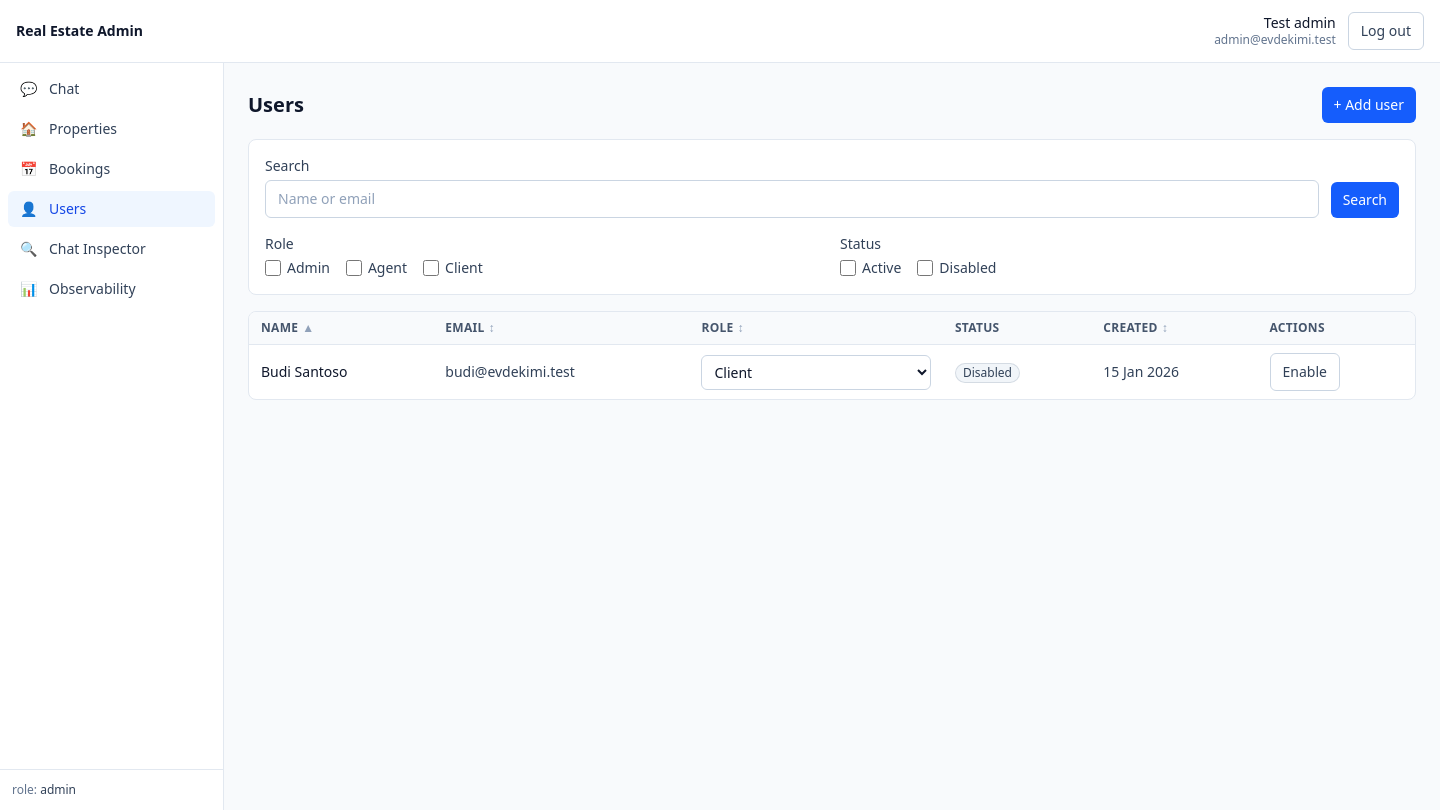
Scenario: enable/disable confirm-before-write › sends nothing when an enable is dismissed
The image size is (1440, 810).
Expected: the text "Budi Santoso" is shown, 249,344 -> 433,399
Click the button "Enable".
click(1305, 372)  # box 1270,353 -> 1340,391
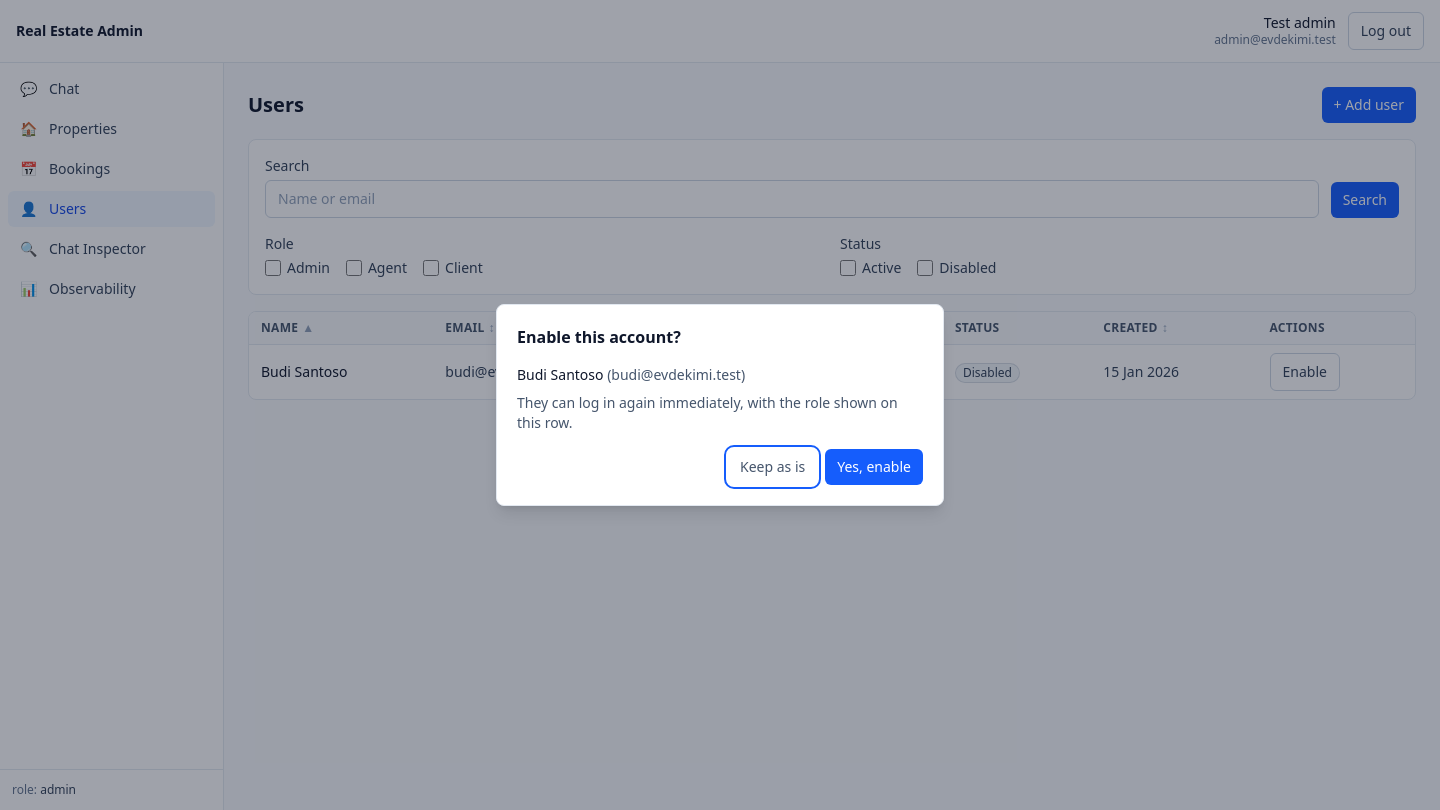
Click the button "Keep as is".
click(773, 467)  # box 728,449 -> 817,485
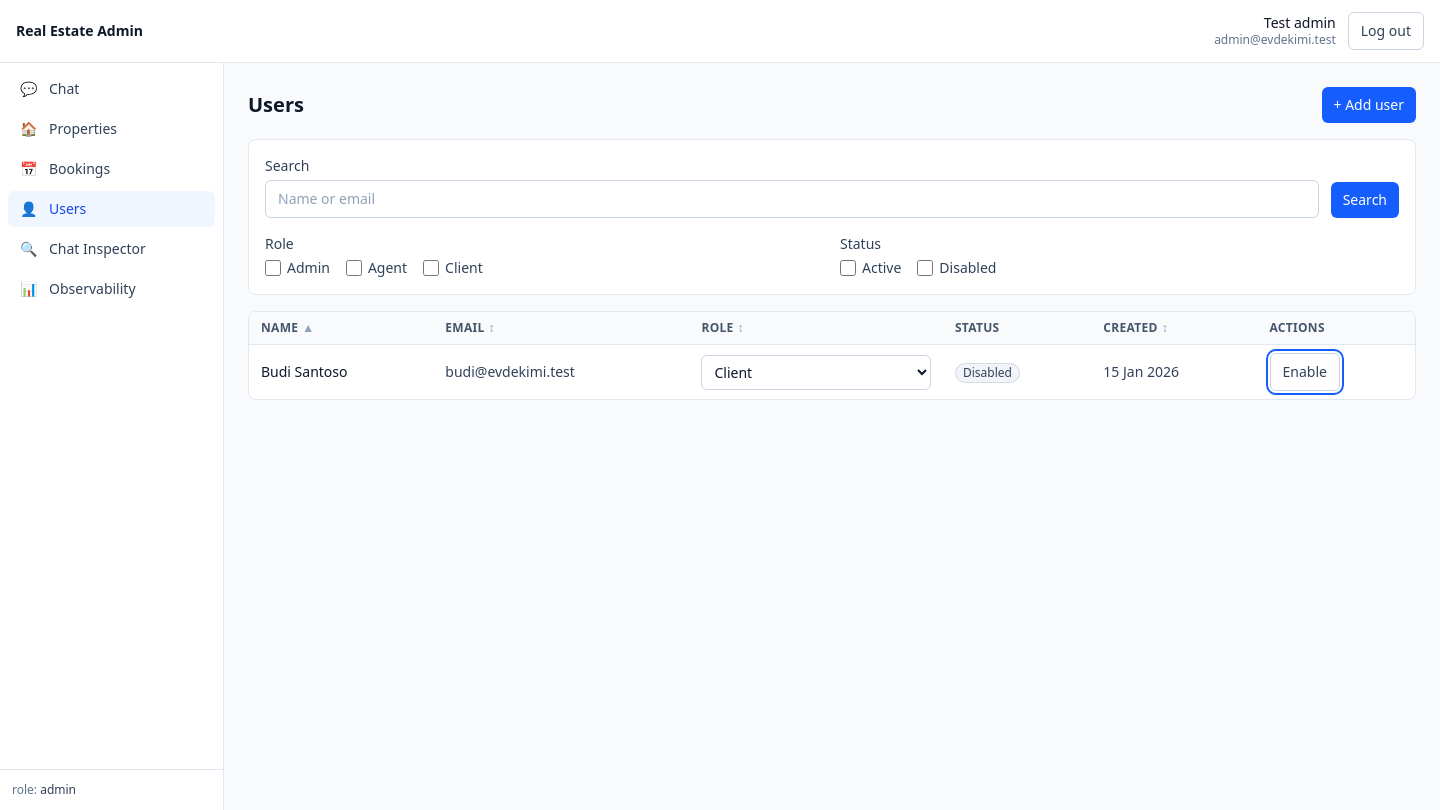
Result: the dialog is gone
